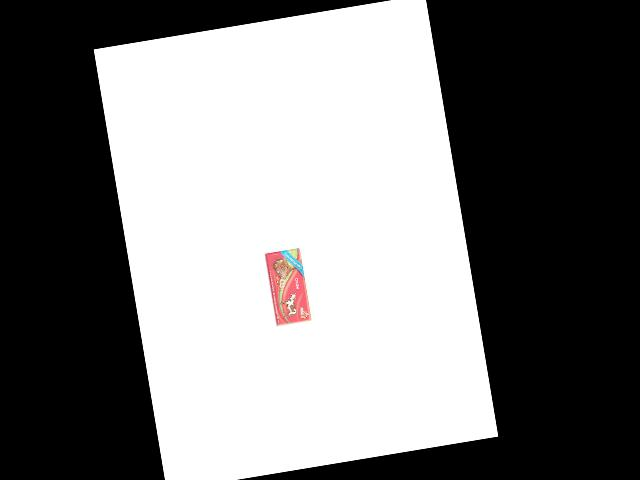chocolate: (265, 248, 312, 329)
